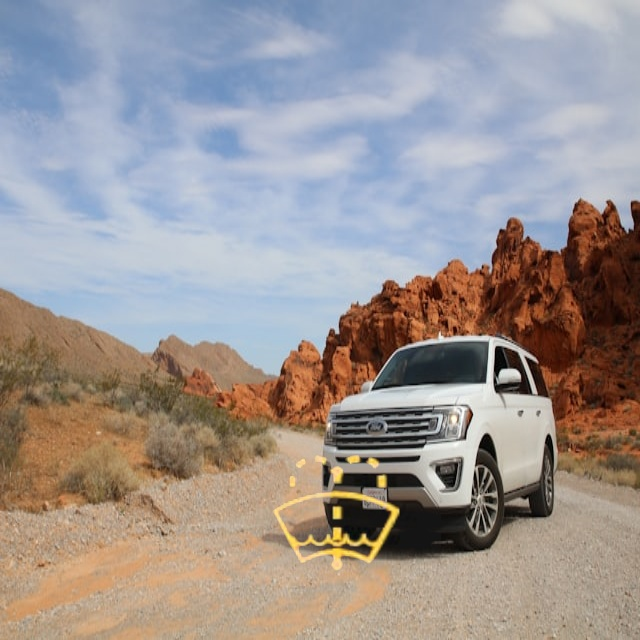symbol: (233, 411, 441, 619)
